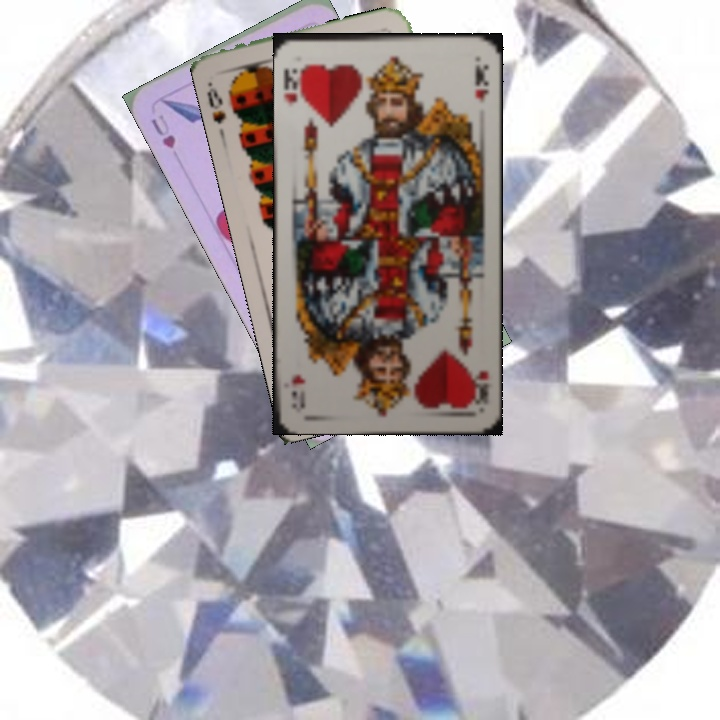HK: (280, 61, 308, 107), (466, 367, 492, 407)
HU: (147, 110, 179, 151)
S8: (203, 77, 229, 127)
